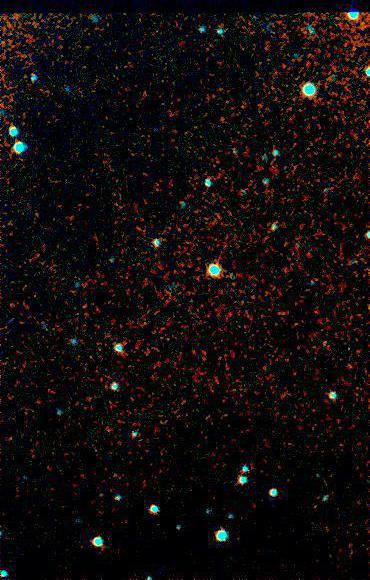star: (175, 173, 205, 203)
